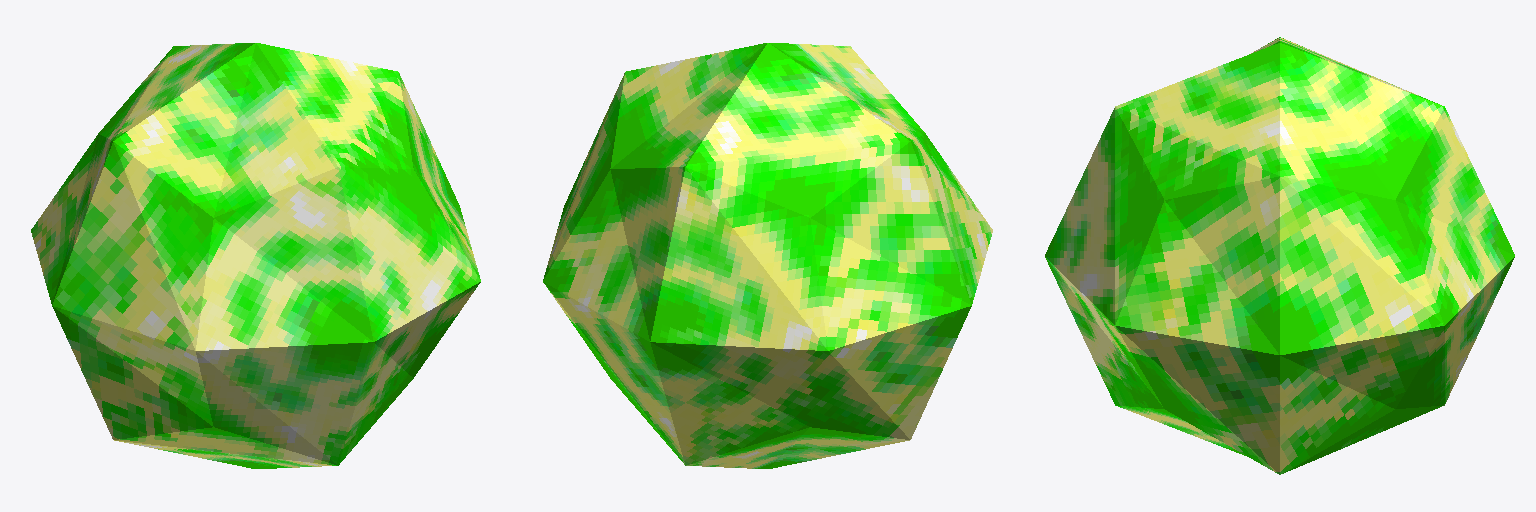
3 renders of one model, left to right at view 1: azimuth 30°, elevation 25°; view 2: azimuth 150°, elevation 25°; view 3: azimuth 270°, elevation 25°, orthographic.
Parts seen in each view (by area): view 1: Ball; view 2: Ball; view 3: Ball.
Part boxes in pixels (x1,y1,x2,y2): Ball: (31, 43, 480, 468); Ball: (543, 43, 992, 468); Ball: (1045, 37, 1514, 474).
Bounding box in the file's own units: 1 × 1 × 1.
Materials: 1 (1 with a texture image).